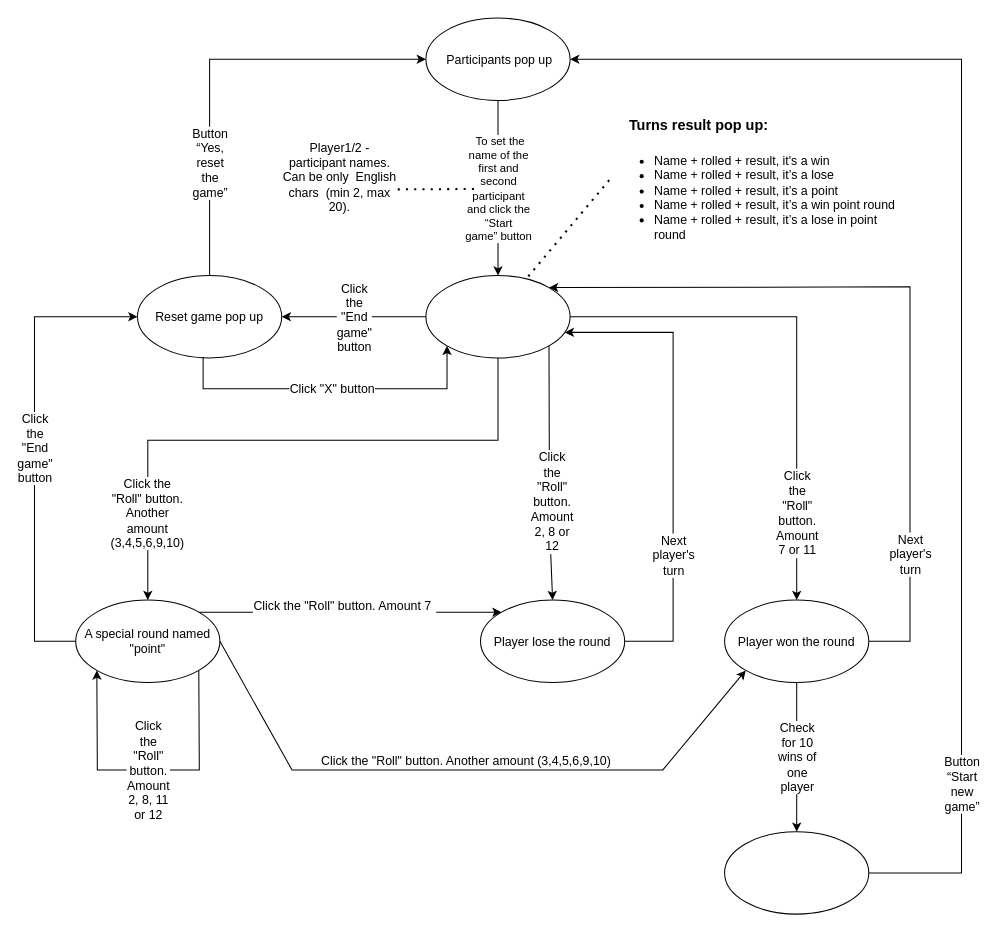
The diagram is 998 pixels wide and 932 high, and some of its shapes have lost their labels. The shapes that lost their labels are listed below. From the top down, each one's box as (x1, y1, x2, y2) in pixels, then its label:
(425, 274, 570, 358): Game page
(724, 831, 869, 914): Win pop up
